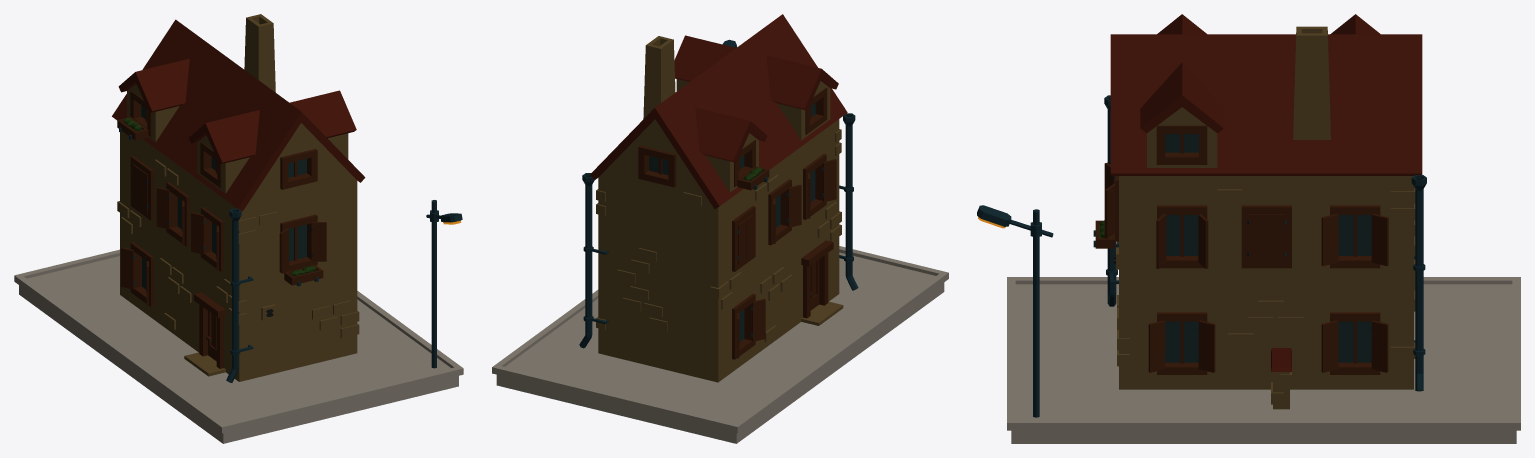
The model's file is Modern building 08.fbx.
The picture shows the model from 3 angles, left to right: view 1: azimuth 30°, elevation 25°; view 2: azimuth 150°, elevation 25°; view 3: azimuth 270°, elevation 25°; orthographic projection. The views are drawn at different scales.
Visible parts, largest first — view 1: Plane1117, Box16102, Object440, Box16101, Rectangle033, Object442, Box16105, Object443, Box16109, WRectangle004, street_light_014, WRectangle007 (+15 smaller); view 2: Plane1117, Box16102, Box16101, Object440, Rectangle033, Object442, Box16105, Object443, Box16109, Cylinder1736, Cylinder1743, WRectangle007 (+14 smaller); view 3: Plane1117, Object440, Box16102, Box16101, Rectangle033, Box16109, Object442, WRectangle003, WRectangle005, WRectangle006, WRectangle001, street_light_014 (+17 smaller).
Boxes of the visible parts, x1,y1,x2,y2 form: Plane1117: (19,256,458,443); Box16102: (120,213,357,381); Object440: (112,19,365,211); Box16101: (120,132,357,295); Rectangle033: (14,249,463,433); Object442: (189,90,356,164); Box16105: (245,123,356,207); Object443: (118,58,189,112); Box16109: (244,14,275,92); WRectangle004: (280,214,317,273); street_light_014: (426,200,462,368); WRectangle007: (280,149,317,189); Plane1117: (496,252,944,443); Box16102: (598,206,839,382); Box16101: (598,119,839,292); Object440: (590,14,847,208); Rectangle033: (492,246,948,433); Object442: (674,35,838,110); Box16105: (598,119,711,205); Object443: (695,107,767,162); Box16109: (643,36,675,118); Cylinder1736: (843,113,858,290); Cylinder1743: (579,173,594,348); WRectangle007: (638,145,676,187); Plane1117: (1011,284,1516,443); Object440: (1110,34,1422,175); Box16102: (1119,283,1413,389); Box16101: (1119,176,1413,282); Rectangle033: (1007,277,1520,430); Box16109: (1293,26,1330,139); Object442: (1140,14,1223,133); WRectangle003: (1330,205,1380,268); WRectangle005: (1157,312,1207,374); WRectangle006: (1330,312,1380,374); WRectangle001: (1157,205,1207,268); street_light_014: (977,205,1053,417).
Bounding box in the file's own units: 820 × 959 × 1291.
